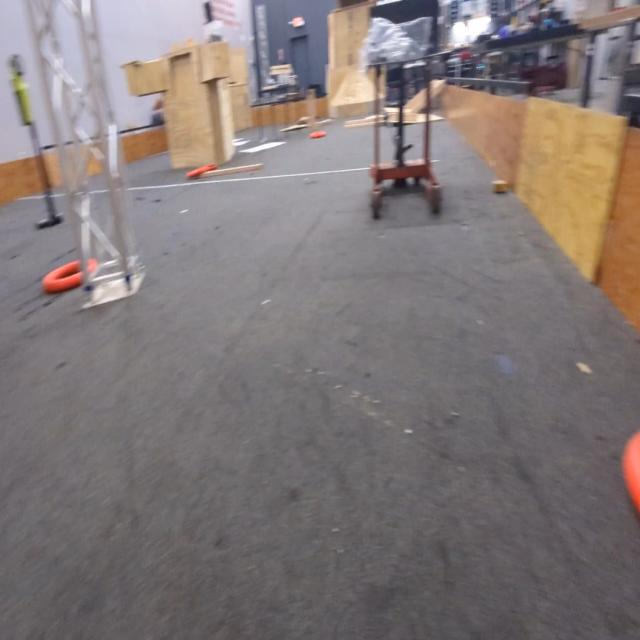note: (44, 257, 97, 295), (620, 428, 640, 520), (186, 164, 210, 180), (308, 132, 328, 142)
